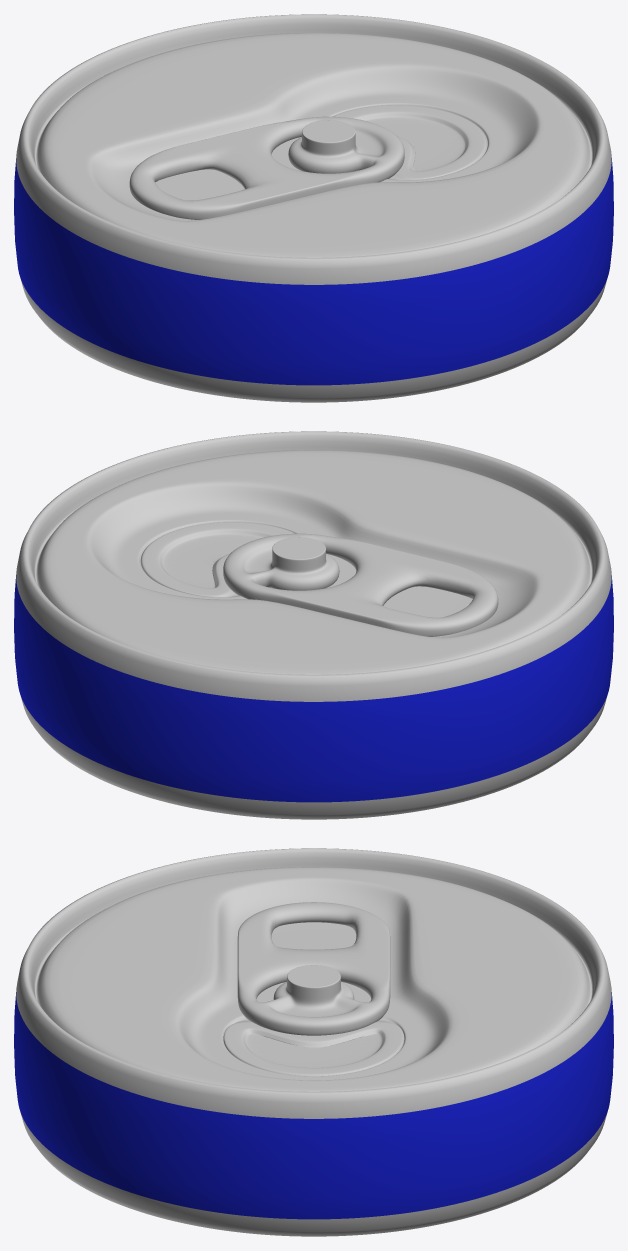
File: can_blue.fbx
3 views of the same model, one above another, from view 1: azimuth 30°, elevation 25°; view 2: azimuth 150°, elevation 25°; view 3: azimuth 270°, elevation 25° (orthographic).
Visible parts, largest first — view 1: 원형, 원형.001; view 2: 원형, 원형.001; view 3: 원형, 원형.001.
Part boxes in pixels (x1,y1,x2,y2): 원형: (14,14,613,402); 원형.001: (129,116,404,219); 원형: (14,431,613,819); 원형.001: (223,533,498,636); 원형: (14,848,613,1236); 원형.001: (237,902,390,1035).
Size of the model in its own units: 488 by 133 by 488.
